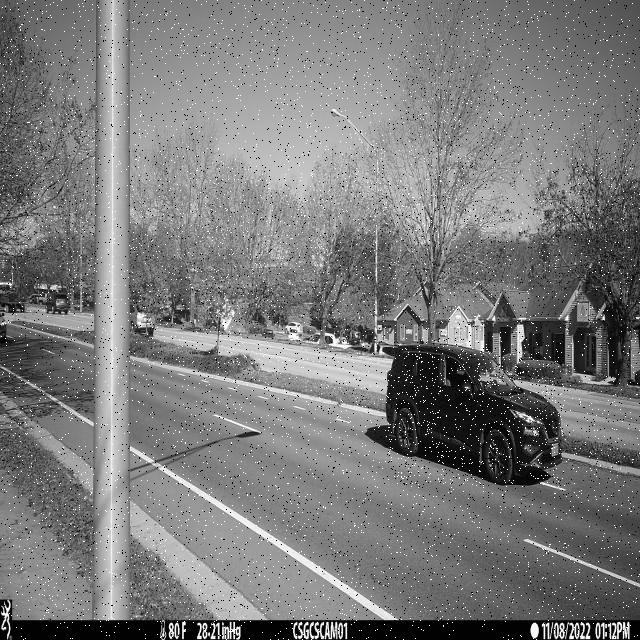SUV: (387, 339, 563, 485)
